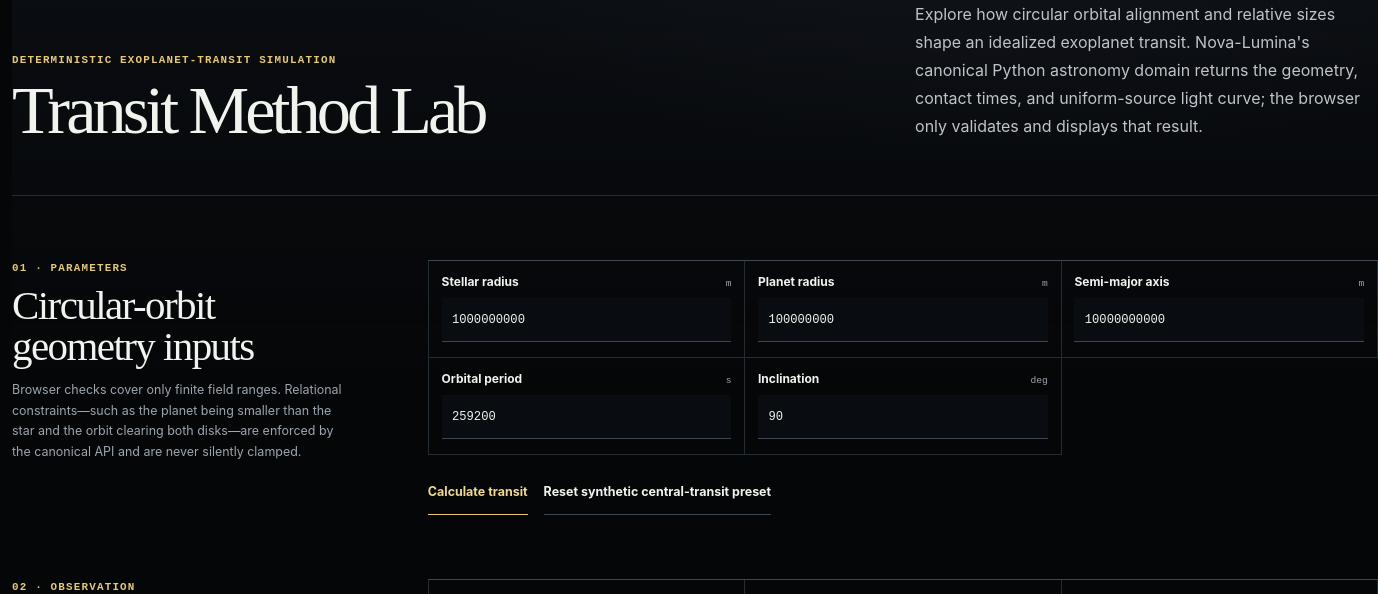
Test case: TransitMethodView › rejects empty numeric drafts instead of coercing them to zero
This screenshot has width=1378, height=594.
Clear the number field labelled "Stellar radius m" at (586, 320), box [442, 298, 731, 342]
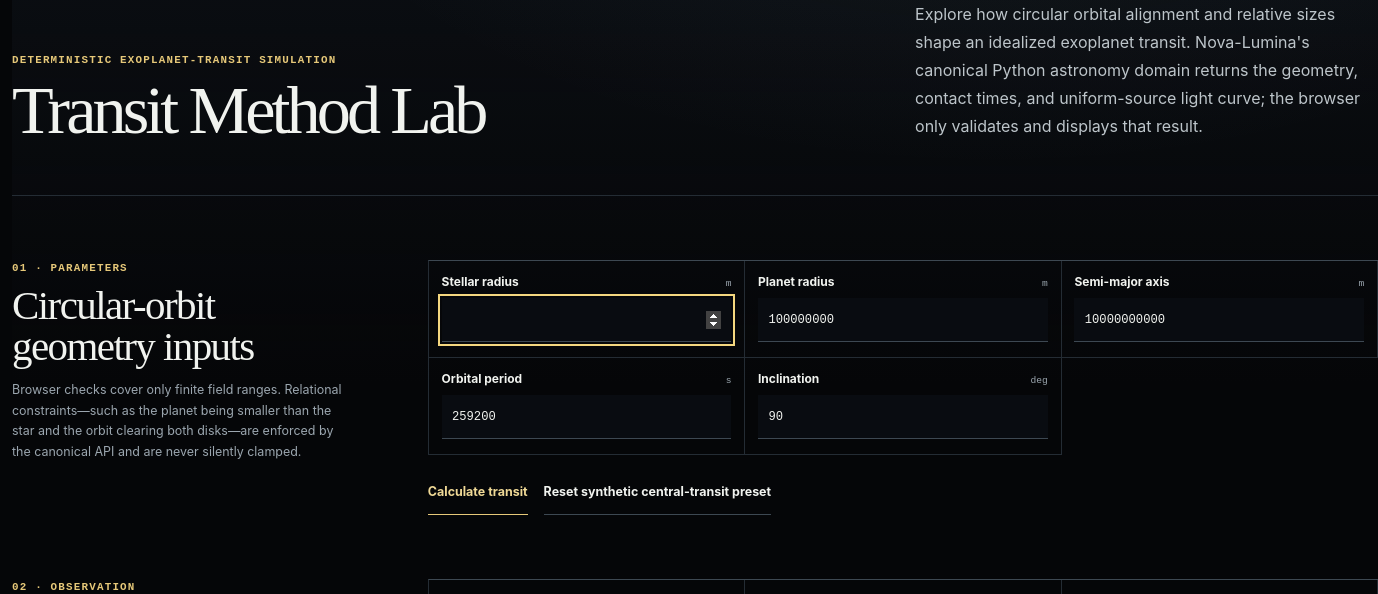
Click the button "Calculate transit" at (478, 493), box [428, 471, 528, 515]
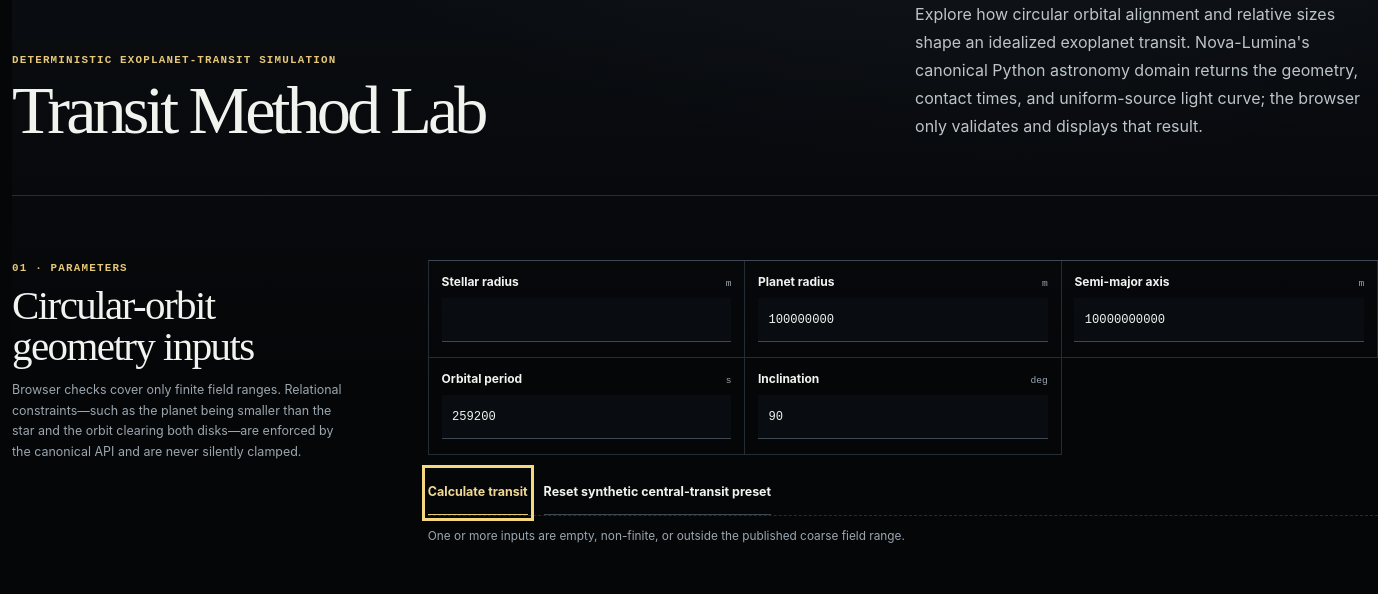
Check: the text "empty, non-finite, or outside" is shown, box [428, 529, 905, 543]
